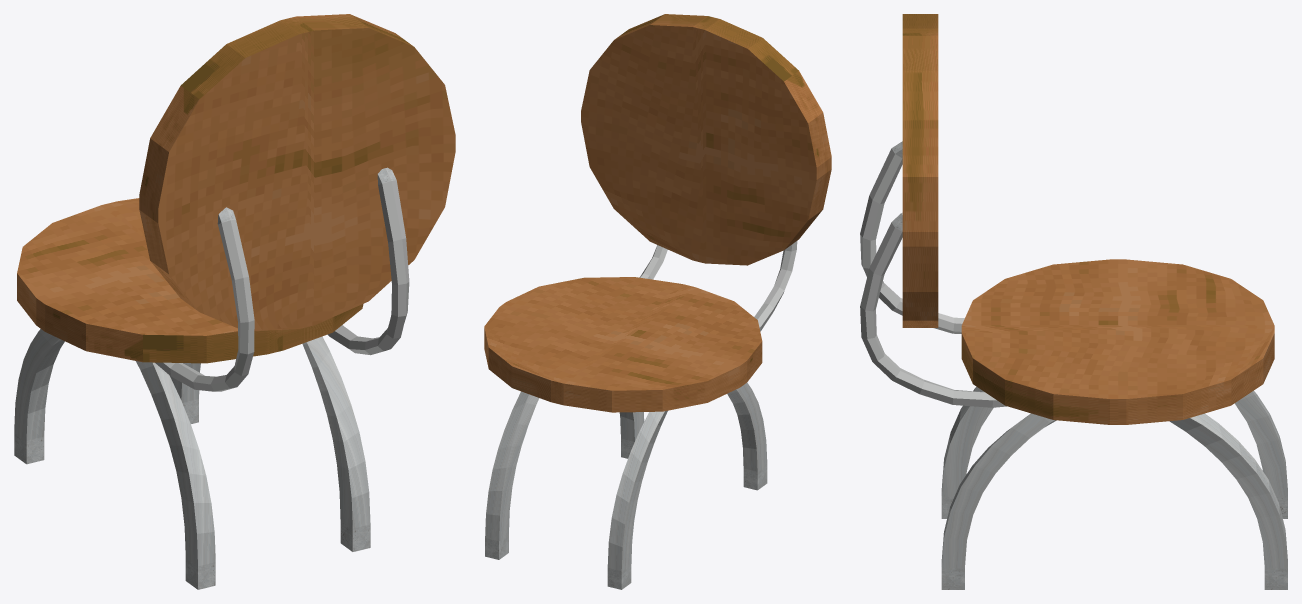
The model's file is Sedia_Cerchio_1.fbx.
The picture shows the model from 3 angles, left to right: view 1: azimuth 30°, elevation 25°; view 2: azimuth 150°, elevation 25°; view 3: azimuth 270°, elevation 25°; orthographic projection. The views are drawn at different scales.
Parts seen in each view (by area): view 1: Cube.087; view 2: Cube.087; view 3: Cube.087.
Part boxes in pixels (x1,y1,x2,y2): Cube.087: (14, 14, 455, 589); Cube.087: (484, 14, 831, 589); Cube.087: (860, 14, 1287, 589).
Bounding box in the file's own units: 0.8243 × 1.43 × 1.07.
2 materials, 2 textured.
